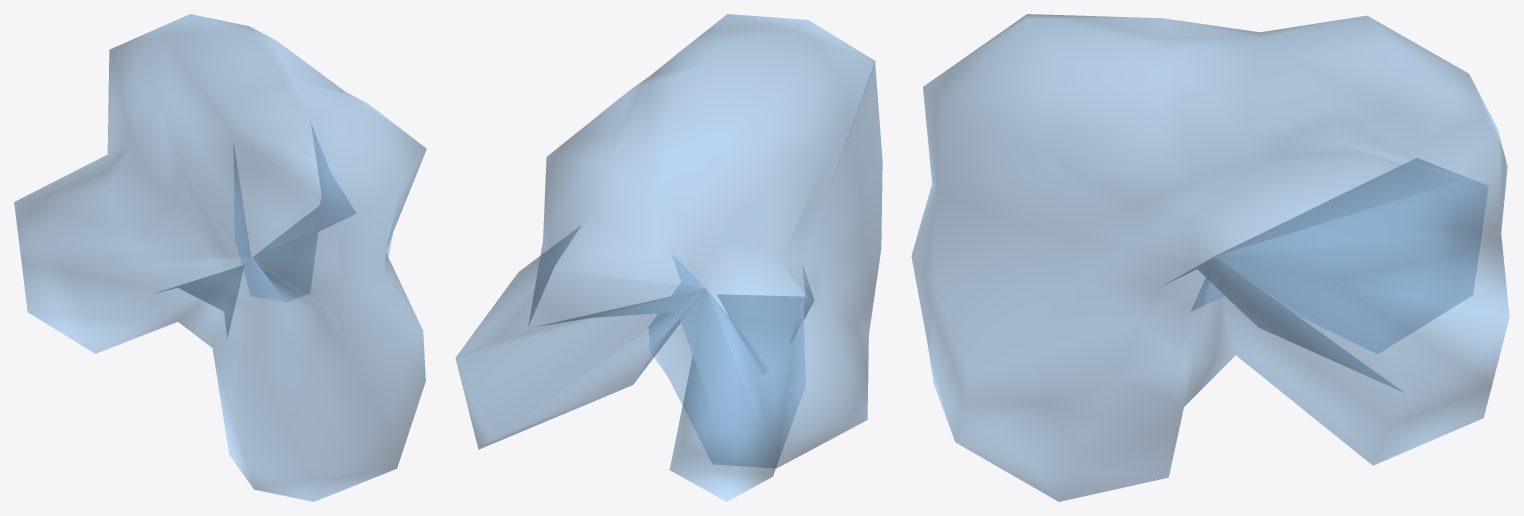
Rendered from matok_shield.gltf.
3 views of the same model, side by side, from view 1: azimuth 30°, elevation 25°; view 2: azimuth 150°, elevation 25°; view 3: azimuth 270°, elevation 25° (orthographic). The views are drawn at different scales.
Visible parts, largest first — view 1: matok.shield; view 2: matok.shield; view 3: matok.shield.
Part boxes in pixels (bbox=[...]): matok.shield: bbox=[14, 14, 426, 501]; matok.shield: bbox=[455, 14, 882, 501]; matok.shield: bbox=[911, 14, 1509, 501].
Bounding box in the file's own units: 8.86 × 10.25 × 12.41.
